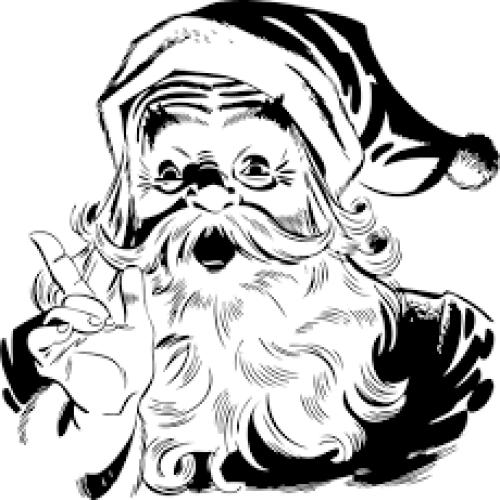Santa: (0, 0, 498, 491)
